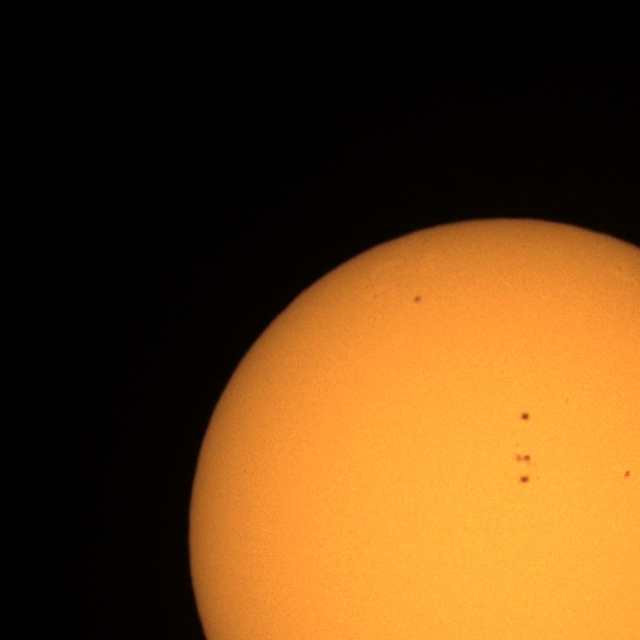sunspot: (514, 452, 535, 482), (514, 453, 532, 466), (518, 474, 530, 485), (412, 294, 423, 305), (520, 411, 531, 422), (623, 469, 631, 479)
